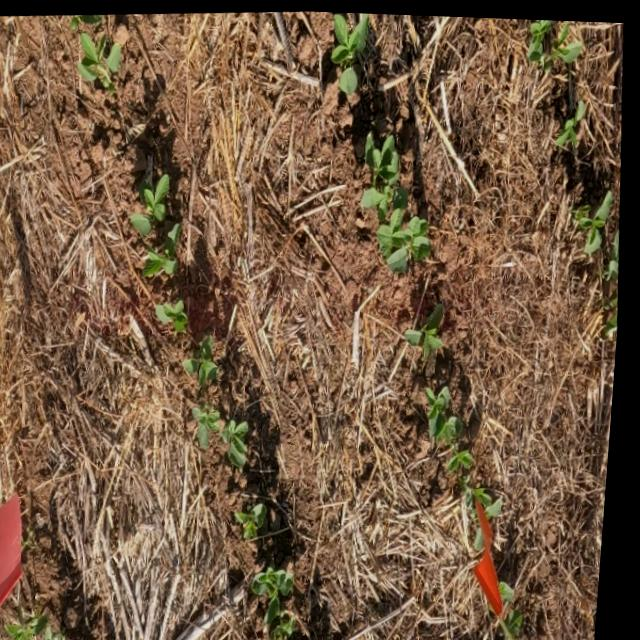soy_plant: (433, 383, 509, 543), (363, 129, 436, 270), (190, 334, 254, 467), (133, 172, 184, 276), (260, 565, 305, 640), (528, 16, 583, 68), (332, 11, 367, 90), (409, 301, 448, 371), (79, 31, 121, 93), (574, 187, 615, 249), (508, 577, 533, 640), (15, 615, 75, 640), (557, 96, 587, 144), (160, 299, 194, 332), (608, 227, 622, 275), (245, 501, 273, 522), (75, 14, 101, 32), (612, 306, 622, 329), (613, 287, 622, 304)
